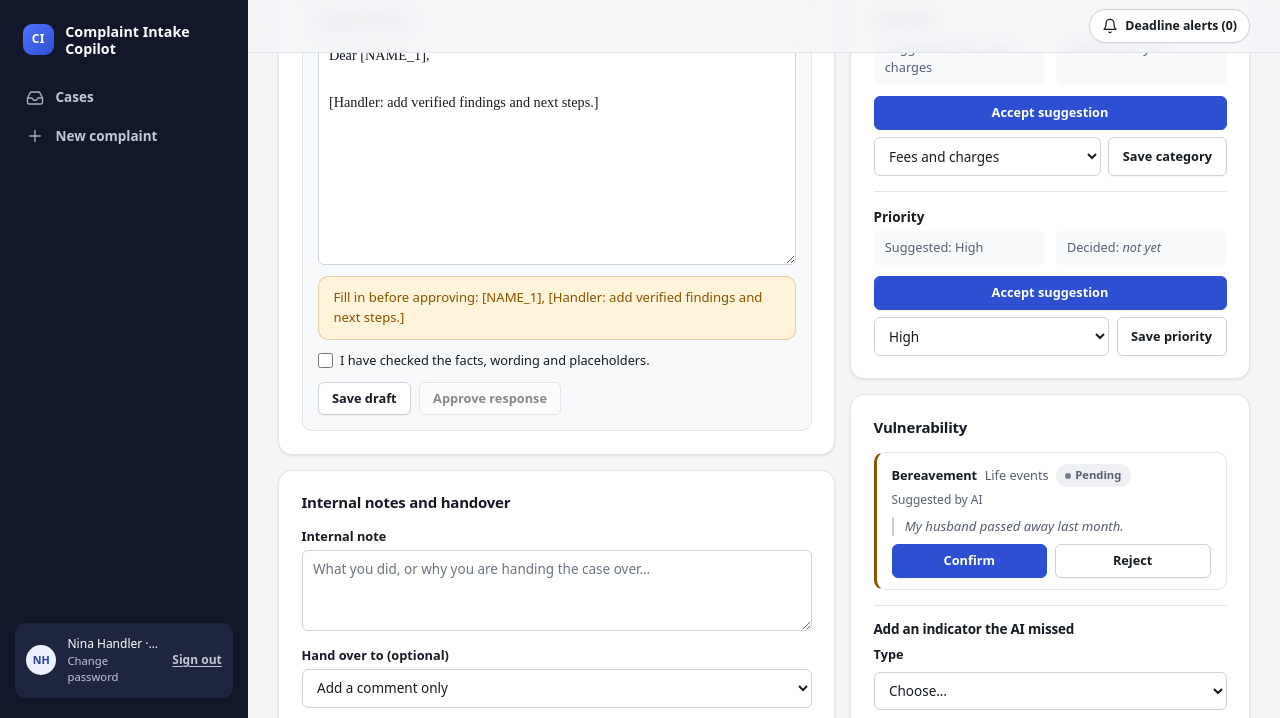
Test: workspace tools › does not approve a draft until its placeholders are filled in
(page scrolled)
Click the checkbox labelled "I have checked the facts, wording and placeholders.": (325, 361) x1=318 y1=353 x2=332 y2=368
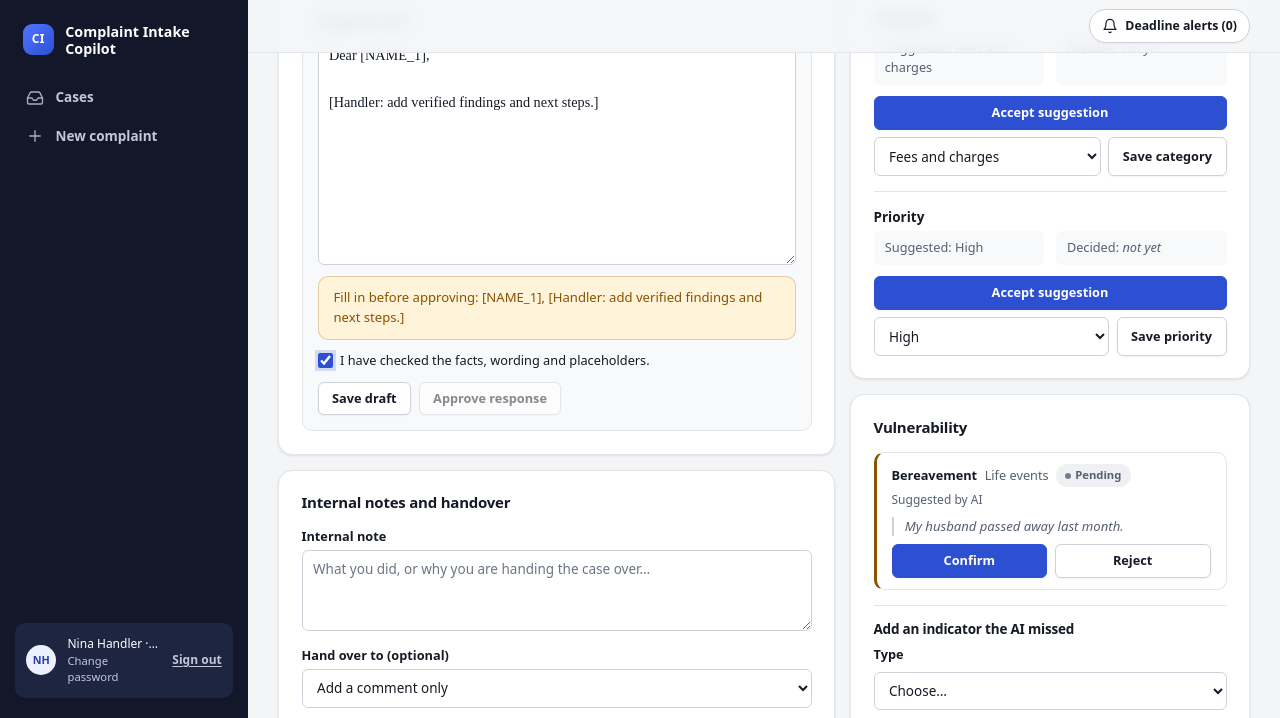
Expected: the button "Approve response" is disabled, x1=419 y1=382 x2=561 y2=415
Expected: the text "Fill in before approving" shows "[NAME_1], [Handler: add verified findings and next steps.]", x1=334 y1=288 x2=762 y2=326
Replace the text in the text box labelled "Response text" with "Dear Ms Ellison, we have refunded the fee.": (556, 150) x1=318 y1=35 x2=796 y2=265
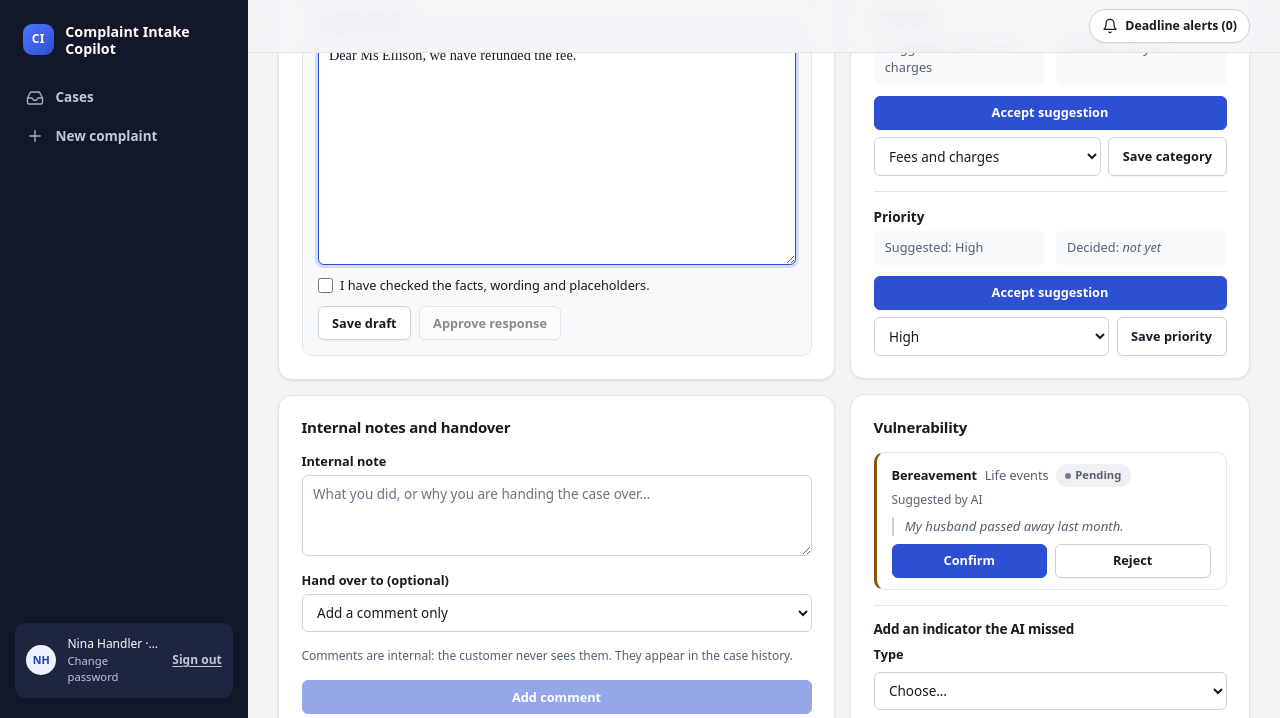
Click the checkbox labelled "I have checked the facts, wording and placeholders.": (325, 286) x1=318 y1=278 x2=332 y2=293
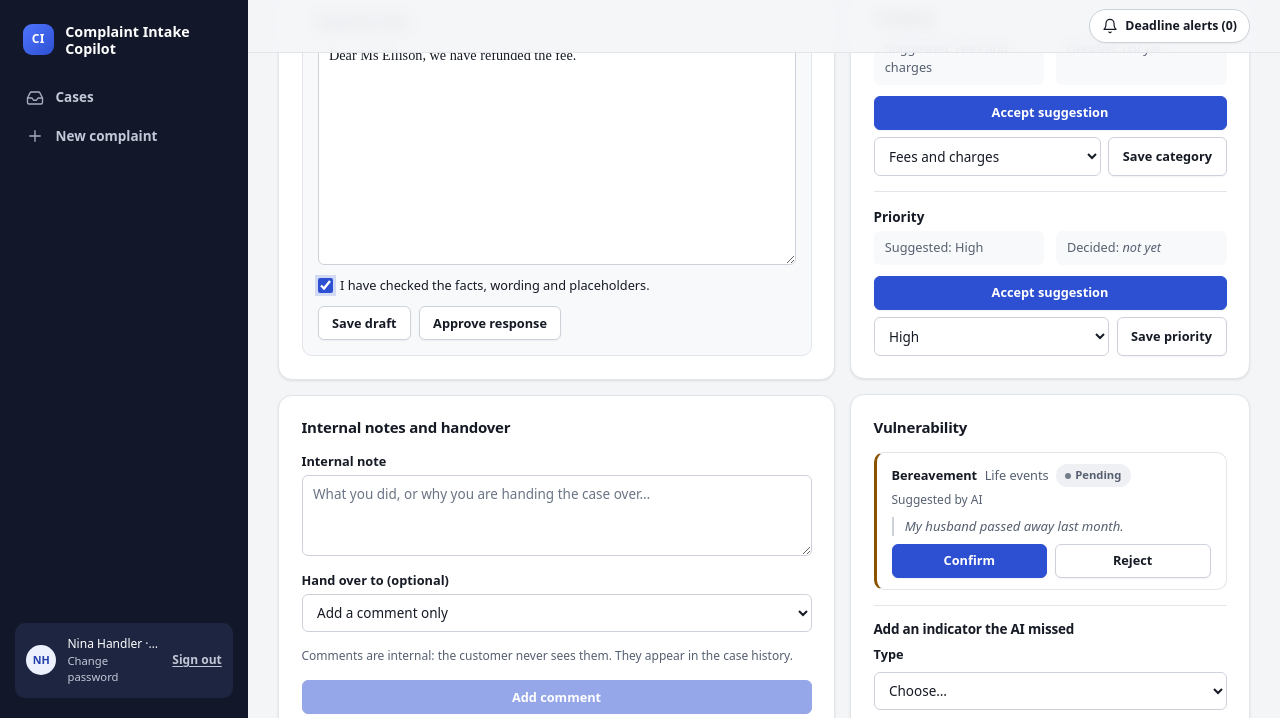
Expected: the text "Fill in before approving" is not shown
Result: the button "Approve response" is enabled at x1=419 y1=306 x2=561 y2=340
